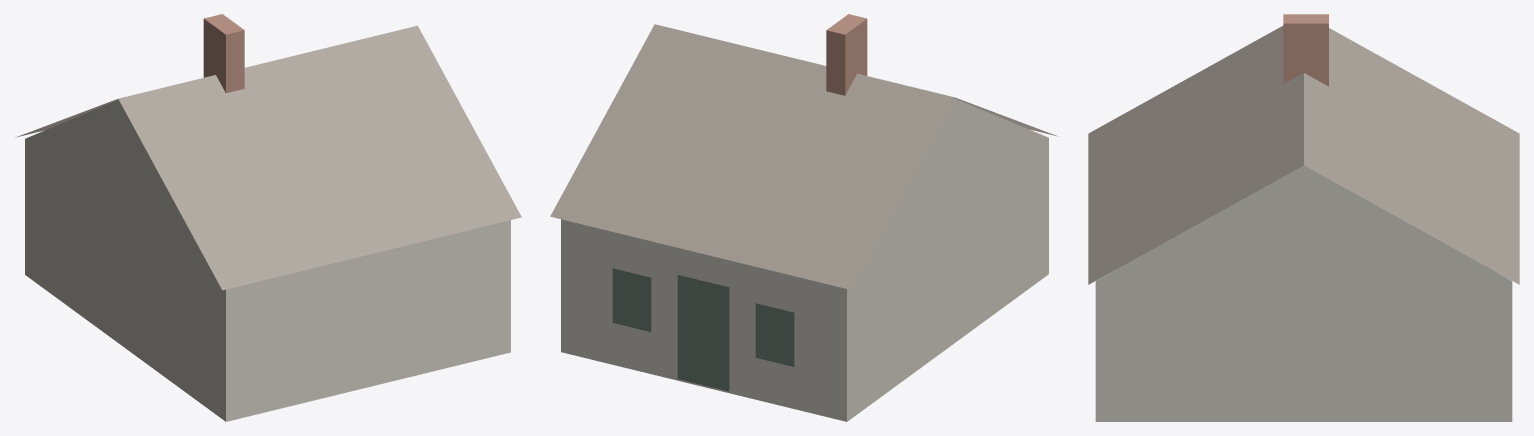
Rendered from recon_1835_north_d1_023__recommended_1835.glb.
3 renders of one model, left to right at view 1: azimuth 30°, elevation 25°; view 2: azimuth 150°, elevation 25°; view 3: azimuth 270°, elevation 25°, orthographic. The views are drawn at different scales.
Visible parts, largest first — view 1: recon_1835_north_d1_023__recommended_1835; view 2: recon_1835_north_d1_023__recommended_1835; view 3: recon_1835_north_d1_023__recommended_1835.
Part boxes in pixels (bbox=[...]): recon_1835_north_d1_023__recommended_1835: bbox=[15, 14, 521, 421]; recon_1835_north_d1_023__recommended_1835: bbox=[550, 14, 1058, 421]; recon_1835_north_d1_023__recommended_1835: bbox=[1088, 14, 1519, 421].
Size of the model in its own units: 5.77 by 5.5 by 6.95.
